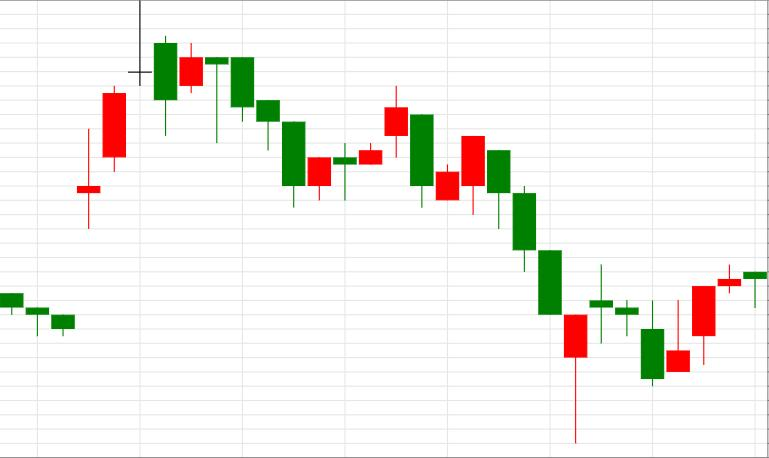hammer_rise: (487, 151, 587, 443)
